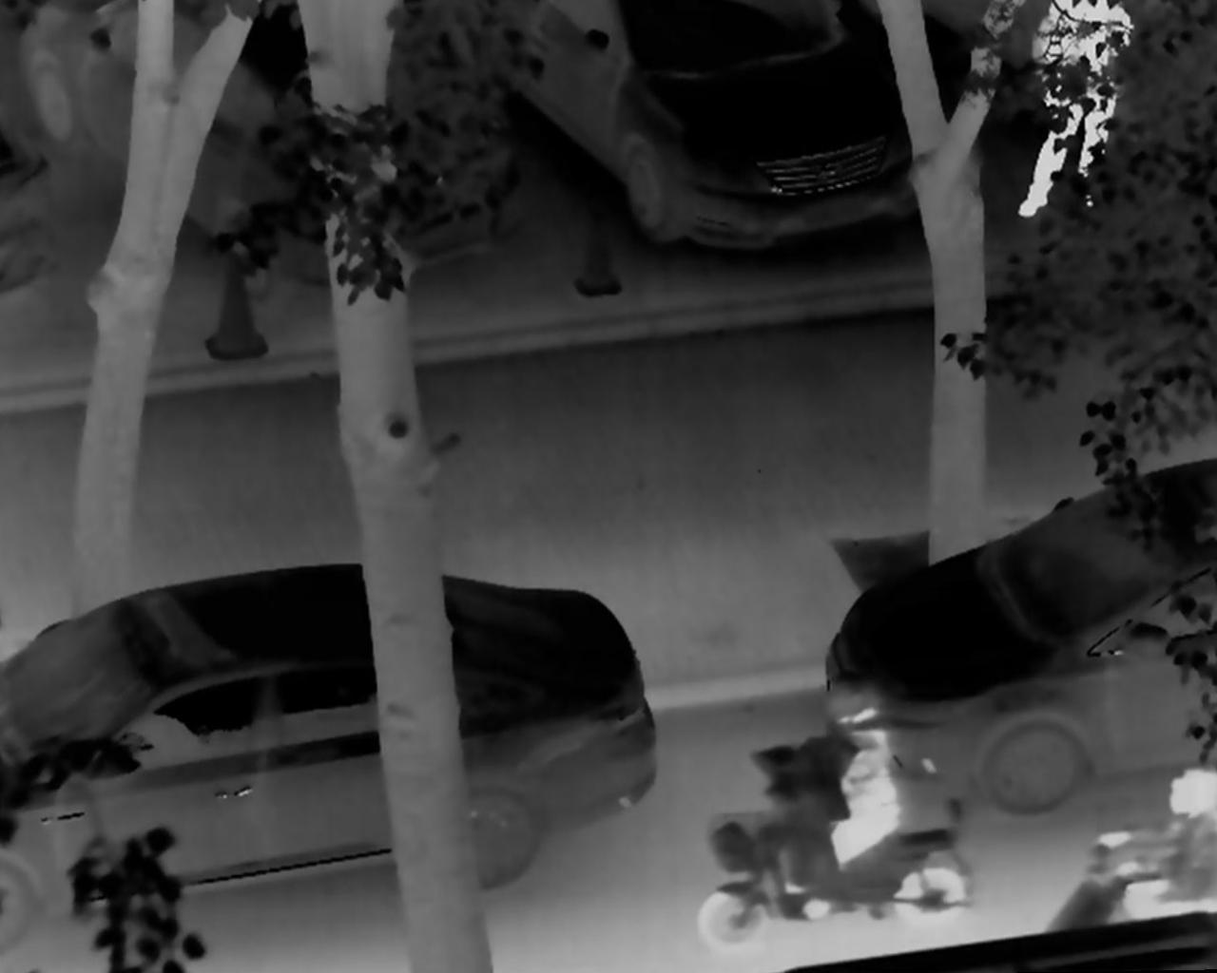person: (787, 684, 918, 896), (1100, 763, 1215, 929)
